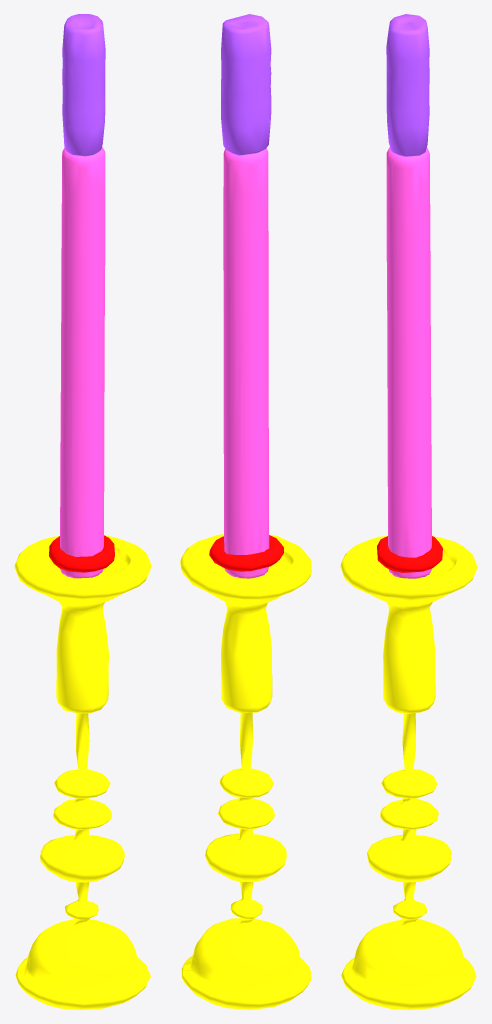
File: ex2_gen2.glb
3 renders of one model, left to right at view 1: azimuth 90°, elevation 25°; view 2: azimuth 210°, elevation 25°; view 3: azimuth 270°, elevation 25°, orthographic.
Visible parts, largest first — view 1: geometry_2, geometry_1, geometry_0, geometry_3; view 2: geometry_2, geometry_1, geometry_0, geometry_3; view 3: geometry_2, geometry_1, geometry_0, geometry_3.
Boxes of the visible parts, x1,y1,x2,y2 form: geometry_2: (14, 535, 151, 1009); geometry_1: (60, 146, 105, 578); geometry_0: (62, 14, 105, 156); geometry_3: (49, 535, 114, 572); geometry_2: (180, 534, 311, 1009); geometry_1: (223, 148, 269, 578); geometry_0: (221, 14, 271, 155); geometry_3: (209, 535, 283, 571); geometry_2: (340, 536, 477, 1009); geometry_1: (386, 147, 431, 578); geometry_0: (386, 14, 429, 156); geometry_3: (377, 536, 442, 572).
Size of the model in its own units: 0.1614 by 1.33 by 0.1704.
